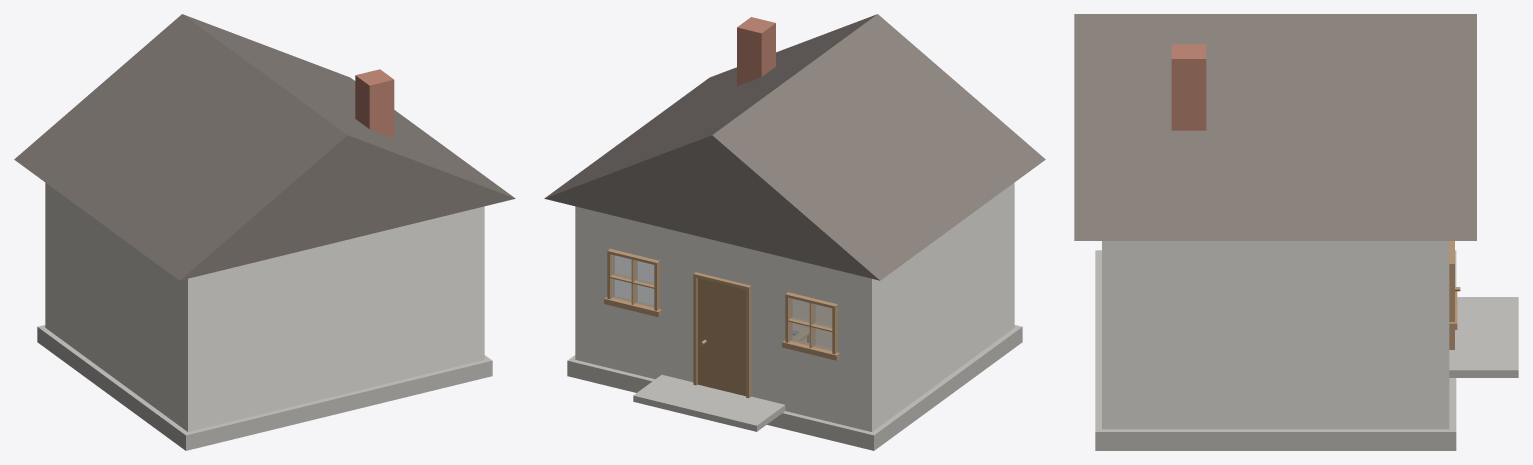
The model's file is house.glb.
The picture shows the model from 3 angles, left to right: view 1: azimuth 30°, elevation 25°; view 2: azimuth 150°, elevation 25°; view 3: azimuth 270°, elevation 25°; orthographic projection. The views are drawn at different scales.
Visible parts, largest first — view 1: Roof, Walls, Foundation, Chimney; view 2: Roof, Walls, Foundation, Door, Porch, Window_L, Window_R, Chimney, DoorFrame, InteriorFloor; view 3: Roof, Walls, Foundation, Porch, Chimney, Window_R.
Part boxes in pixels (left/top/right/bottom): Roof: left=14, top=14, right=515, bottom=280; Walls: left=45, top=182, right=484, bottom=431; Foundation: left=37, top=325, right=492, bottom=450; Chimney: left=355, top=69, right=394, bottom=138; Roof: left=544, top=14, right=1045, bottom=280; Walls: left=575, top=182, right=1014, bottom=431; Foundation: left=567, top=325, right=1022, bottom=450; Door: left=697, top=278, right=745, bottom=396; Porch: left=633, top=375, right=785, bottom=431; Window_L: left=782, top=292, right=839, bottom=360; Window_R: left=604, top=249, right=661, bottom=317; Chimney: left=737, top=17, right=775, bottom=86; DoorFrame: left=693, top=272, right=751, bottom=398; InteriorFloor: left=792, top=299, right=832, bottom=348; Roof: left=1074, top=14, right=1476, bottom=240; Walls: left=1102, top=241, right=1449, bottom=429; Foundation: left=1095, top=250, right=1456, bottom=450; Porch: left=1449, top=297, right=1518, bottom=377; Chimney: left=1171, top=44, right=1206, bottom=130; Window_R: left=1449, top=241, right=1457, bottom=329.
Bounding box in the file's own units: 6.8 × 5.6 × 6.4.
